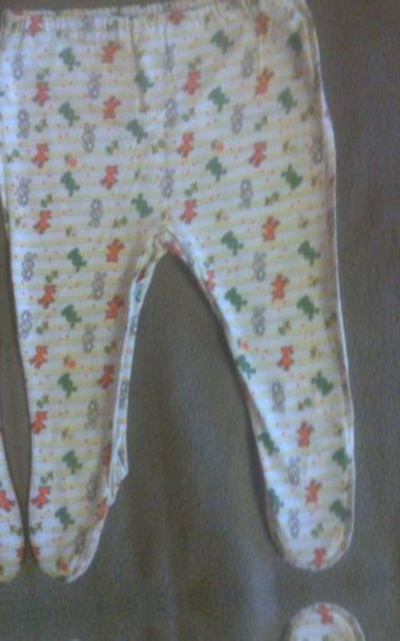Pants: (0, 0, 400, 596), (0, 9, 30, 633), (38, 598, 400, 641), (396, 0, 400, 555), (0, 634, 93, 641)
